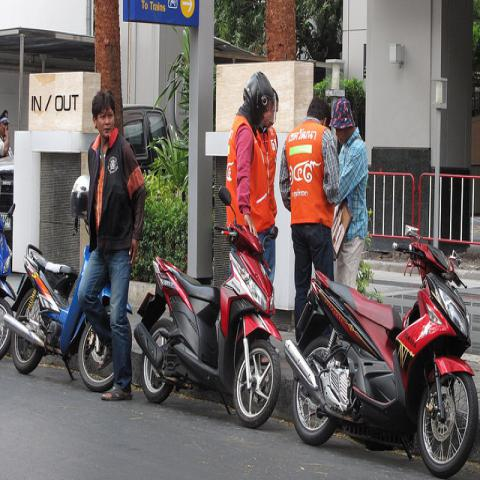car: (0, 155, 14, 252)
motorcycle: (281, 238, 480, 470), (133, 187, 284, 425), (4, 244, 133, 392)
truck: (0, 104, 178, 239)
